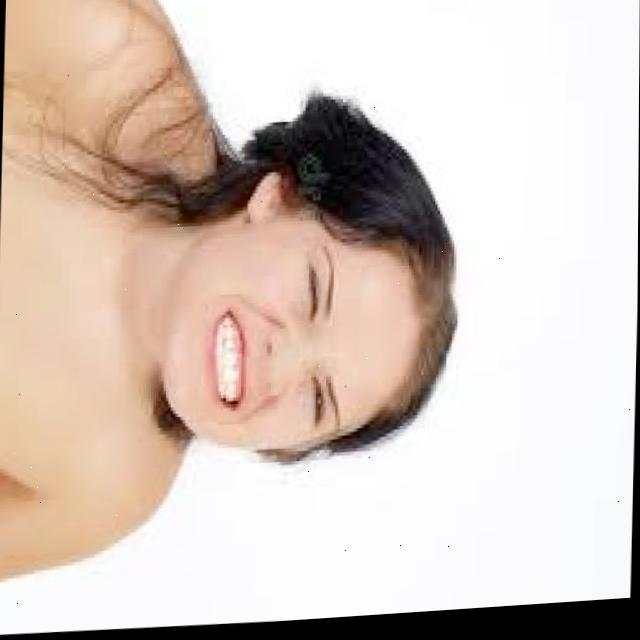angry: (129, 126, 458, 503)
